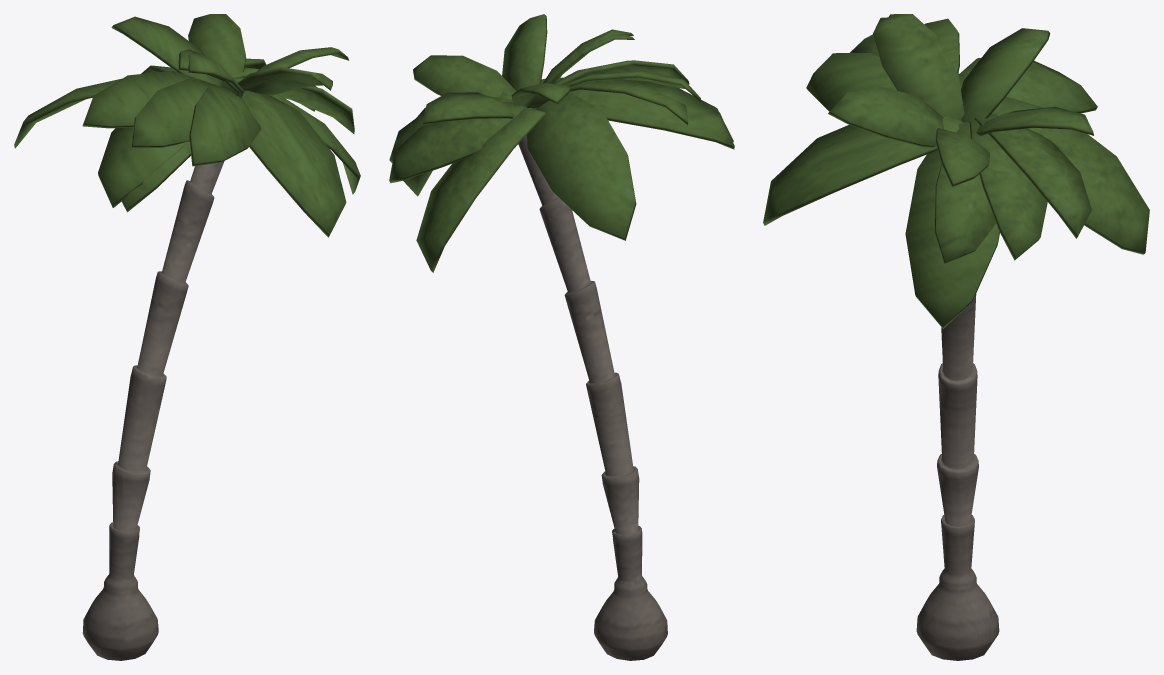
The model's file is Coqueiro.fbx.
The picture shows the model from 3 angles, left to right: view 1: azimuth 30°, elevation 25°; view 2: azimuth 150°, elevation 25°; view 3: azimuth 270°, elevation 25°; orthographic projection. The views are drawn at different scales.
Visible parts, largest first — view 1: Coqueiro; view 2: Coqueiro; view 3: Coqueiro.
Part boxes in pixels (x1,y1,x2,y2): Coqueiro: (14, 14, 360, 660); Coqueiro: (389, 14, 734, 660); Coqueiro: (763, 14, 1149, 660).
Bounding box in the file's own units: 252 × 507 × 270.
